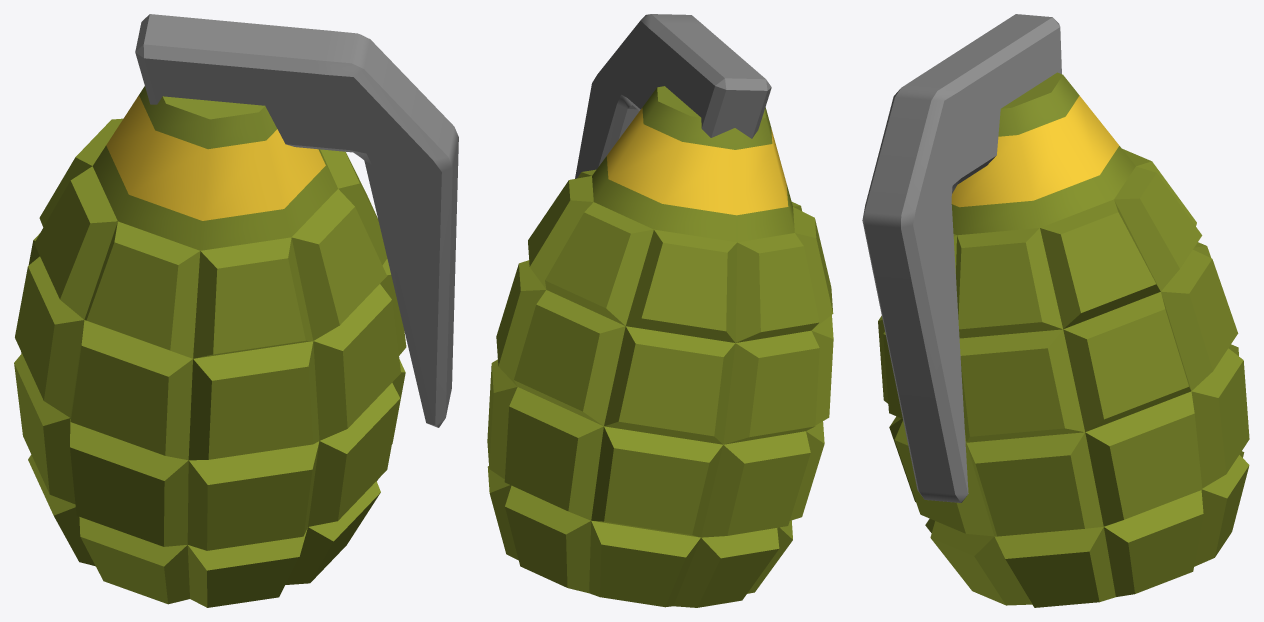
The model's file is Grenade.fbx.
3 views of the same model, side by side, from view 1: azimuth 30°, elevation 25°; view 2: azimuth 150°, elevation 25°; view 3: azimuth 270°, elevation 25° (orthographic). The views are drawn at different scales.
Parts seen in each view (by area): view 1: Grenade; view 2: Grenade; view 3: Grenade.
Boxes of the visible parts, x1,y1,x2,y2 form: Grenade: [14, 14, 458, 607]; Grenade: [487, 14, 833, 607]; Grenade: [862, 14, 1249, 607].
Bounding box in the file's own units: 19.09 × 29.59 × 19.67.
